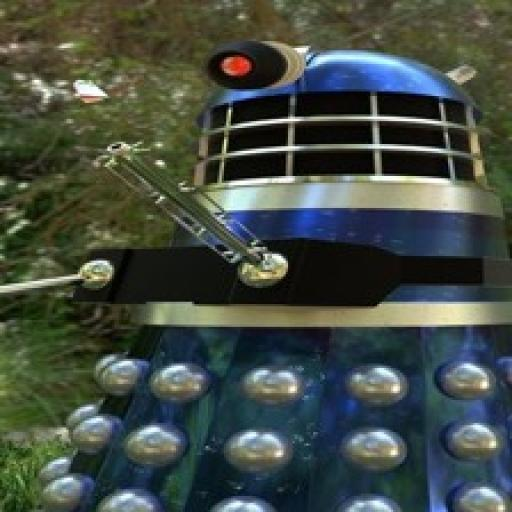dalek: (7, 32, 512, 510)
